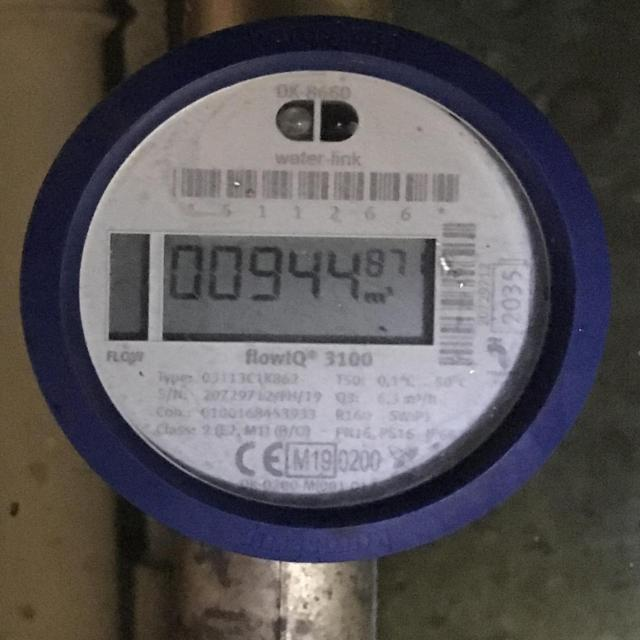gaz_meter: (72, 66, 551, 504)
indication: (164, 233, 435, 345)
